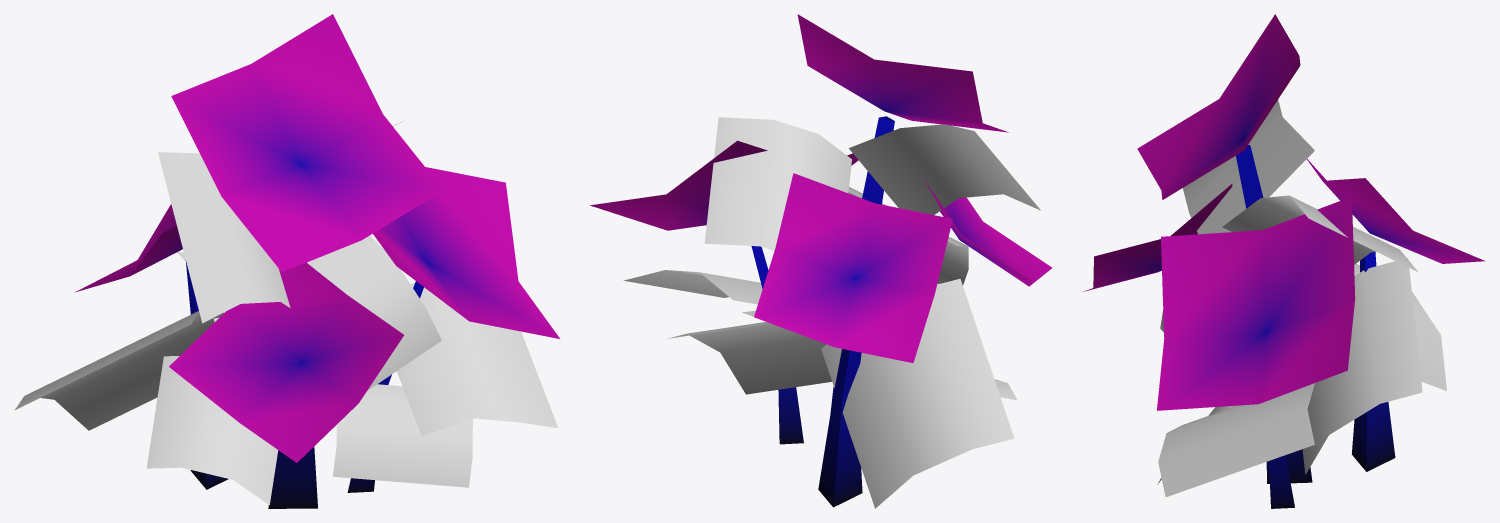
File: Flower_01.fbx
3 renders of one model, left to right at view 1: azimuth 30°, elevation 25°; view 2: azimuth 150°, elevation 25°; view 3: azimuth 270°, elevation 25°, orthographic. The views are drawn at different scales.
Visible parts, largest first — view 1: Flower_01; view 2: Flower_01; view 3: Flower_01.
Part boxes in pixels (x1,y1,x2,y2): Flower_01: (14,14,559,508); Flower_01: (590,14,1052,508); Flower_01: (1083,14,1485,508).
Bounding box in the file's own units: 0.3634 × 0.3458 × 0.2926.
